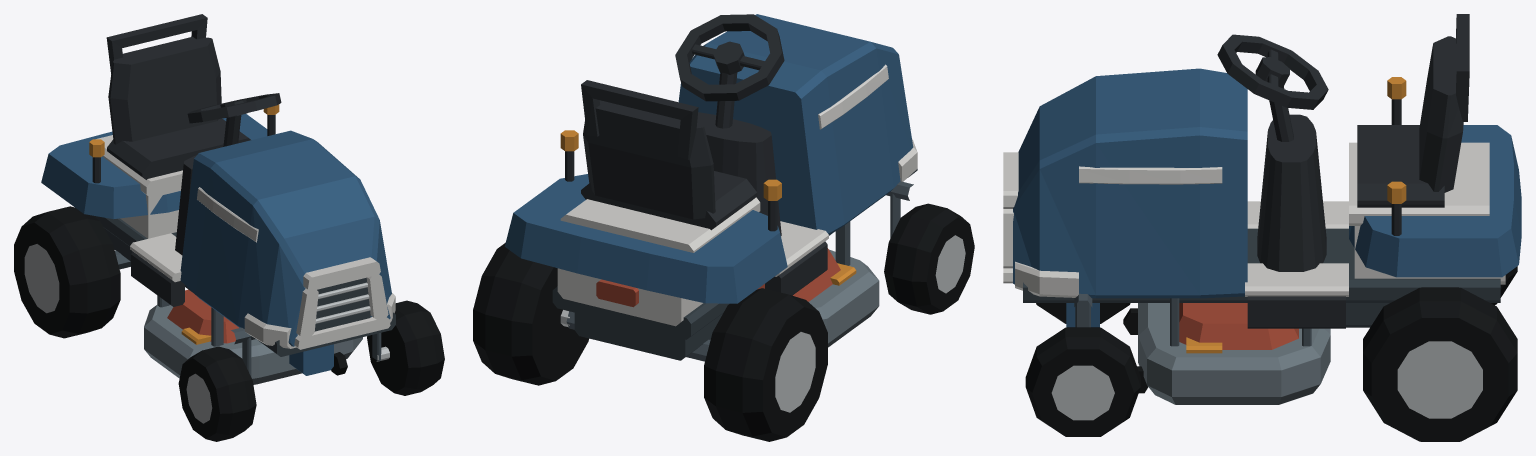
Rendered from riding-lawn-tractor-09e93c.glb.
The picture shows the model from 3 angles, left to right: view 1: azimuth 30°, elevation 25°; view 2: azimuth 150°, elevation 25°; view 3: azimuth 270°, elevation 25°; orthographic projection. The views are drawn at different scales.
Visible parts, largest first — view 1: tractor-body, wheel-rr-mesh, wheel-fr-mesh, wheel-fl-mesh; view 2: tractor-body, wheel-rr-mesh, wheel-rl-mesh, wheel-fr-mesh; view 3: tractor-body, wheel-rl-mesh, wheel-fl-mesh, wheel-fr-mesh.
Boxes of the visible parts, left/top/right/bottom form: tractor-body: left=41, top=14, right=395, bottom=384; wheel-rr-mesh: left=14, top=206, right=120, bottom=338; wheel-fr-mesh: left=178, top=346, right=256, bottom=441; wheel-fl-mesh: left=367, top=300, right=444, bottom=395; tractor-body: left=504, top=14, right=917, bottom=361; wheel-rr-mesh: left=704, top=288, right=827, bottom=441; wheel-rl-mesh: left=473, top=243, right=588, bottom=385; wheel-fr-mesh: left=884, top=203, right=974, bottom=314; tractor-body: left=1003, top=14, right=1521, bottom=404; wheel-rl-mesh: left=1363, top=287, right=1517, bottom=441; wheel-fl-mesh: left=1025, top=327, right=1140, bottom=436; wheel-fr-mesh: left=1036, top=303, right=1130, bottom=323.
Bounding box in the file's own units: 1.26 × 1.31 × 1.85.
